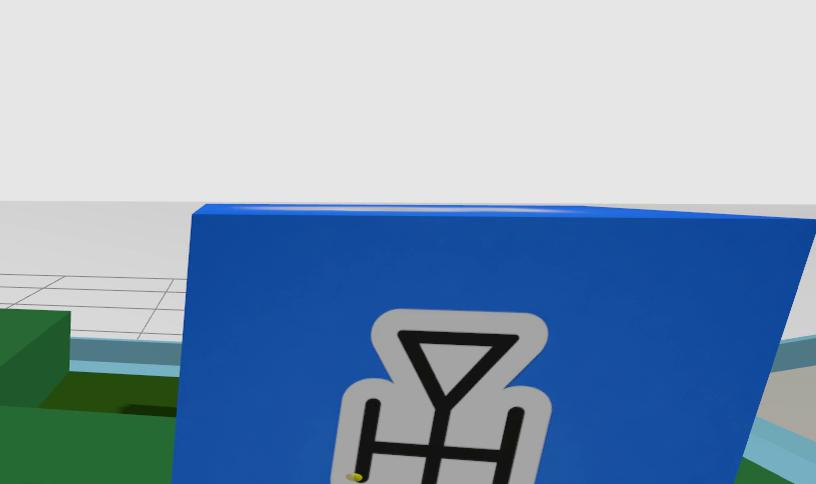KFS_REAL: (172, 204, 815, 484), (329, 310, 550, 484)
